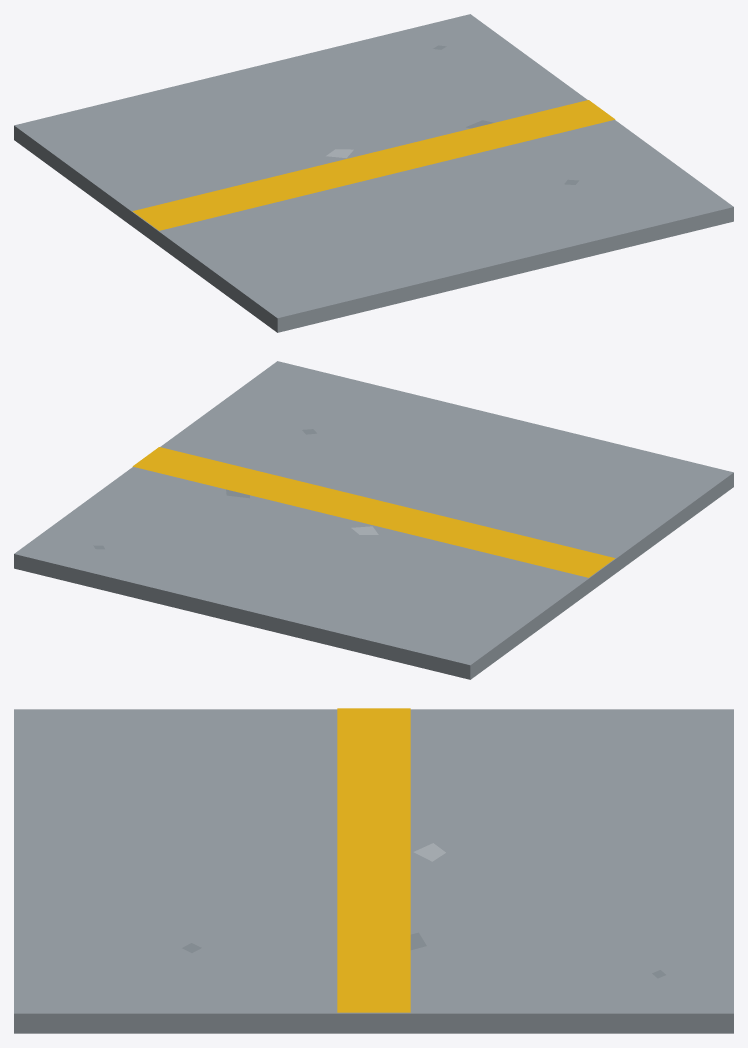
Rendered from raum_fliese_weg.glb.
3 views of the same model, one above another, from view 1: azimuth 30°, elevation 25°; view 2: azimuth 150°, elevation 25°; view 3: azimuth 270°, elevation 25° (orthographic). The views are drawn at different scales.
Visible parts, largest first — view 1: raum_fliese_weg; view 2: raum_fliese_weg; view 3: raum_fliese_weg.
Part boxes in pixels (left/top/right/bottom): raum_fliese_weg: left=14, top=14, right=733, bottom=332; raum_fliese_weg: left=14, top=361, right=733, bottom=679; raum_fliese_weg: left=14, top=708, right=733, bottom=1033.
Size of the model in its own units: 0.98 by 0.0316 by 0.98.
